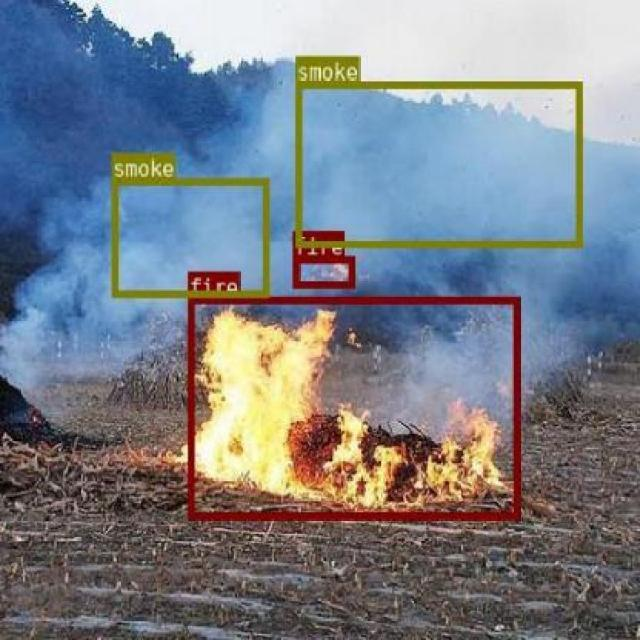Fire: (187, 296, 518, 518), (292, 255, 354, 288)
Smoke: (294, 80, 580, 246), (111, 178, 267, 294)
